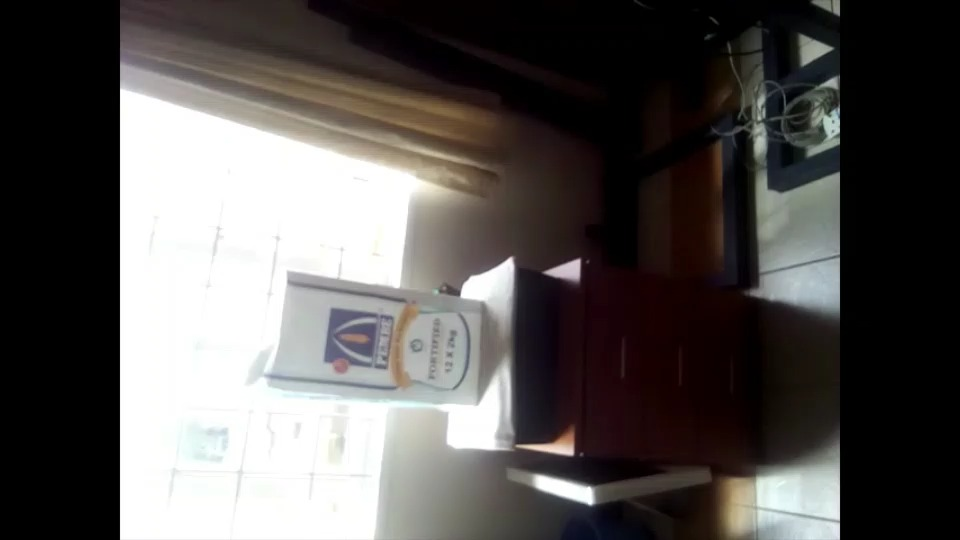wheat_flour_blue_label: (260, 271, 480, 408)
